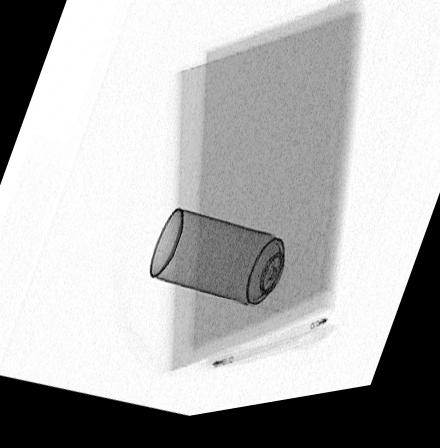Sprayer: (147, 212, 314, 325)
